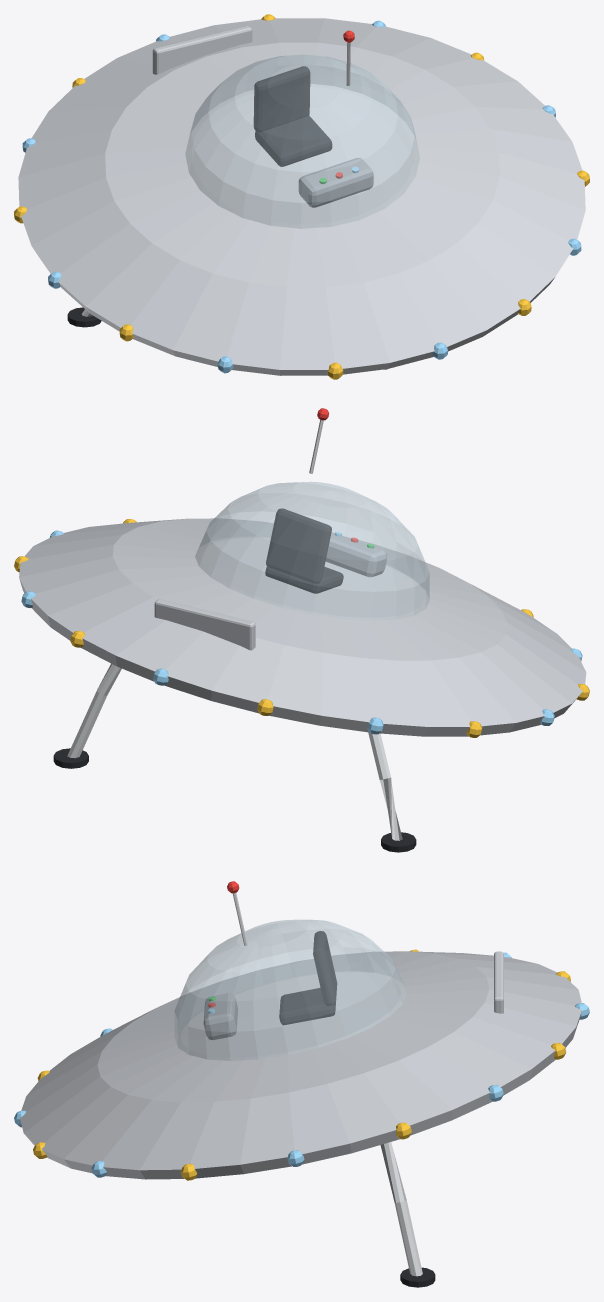
File: B04_crashed_ufo_v2.glb
3 renders of one model, top to bottom at view 1: azimuth 30°, elevation 25°; view 2: azimuth 150°, elevation 25°; view 3: azimuth 270°, elevation 25°, orthographic.
Visible parts, largest first — view 1: Body, Glass, UfoDetails, Trunk; view 2: Body, Glass, UfoDetails, Trunk; view 3: Body, Glass, UfoDetails, Trunk.
Boxes of the visible parts, x1,y1,x2,y2 form: Body: [18, 18, 585, 375]; Glass: [185, 54, 419, 228]; UfoDetails: [14, 14, 589, 379]; Trunk: [152, 26, 252, 74]; Body: [19, 518, 586, 736]; Glass: [195, 481, 429, 620]; UfoDetails: [14, 408, 589, 852]; Trunk: [154, 599, 255, 650]; Body: [20, 951, 581, 1179]; Glass: [174, 919, 406, 1060]; UfoDetails: [14, 881, 589, 1287]; Trunk: [494, 951, 503, 1013].
Size of the model in its own units: 4.67 by 2.85 by 4.6.
4 materials, 1 textured.
